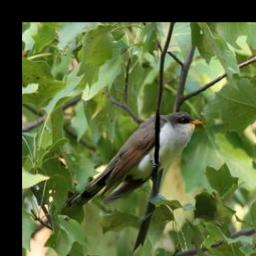Cuckoo: (60, 108, 202, 209)
